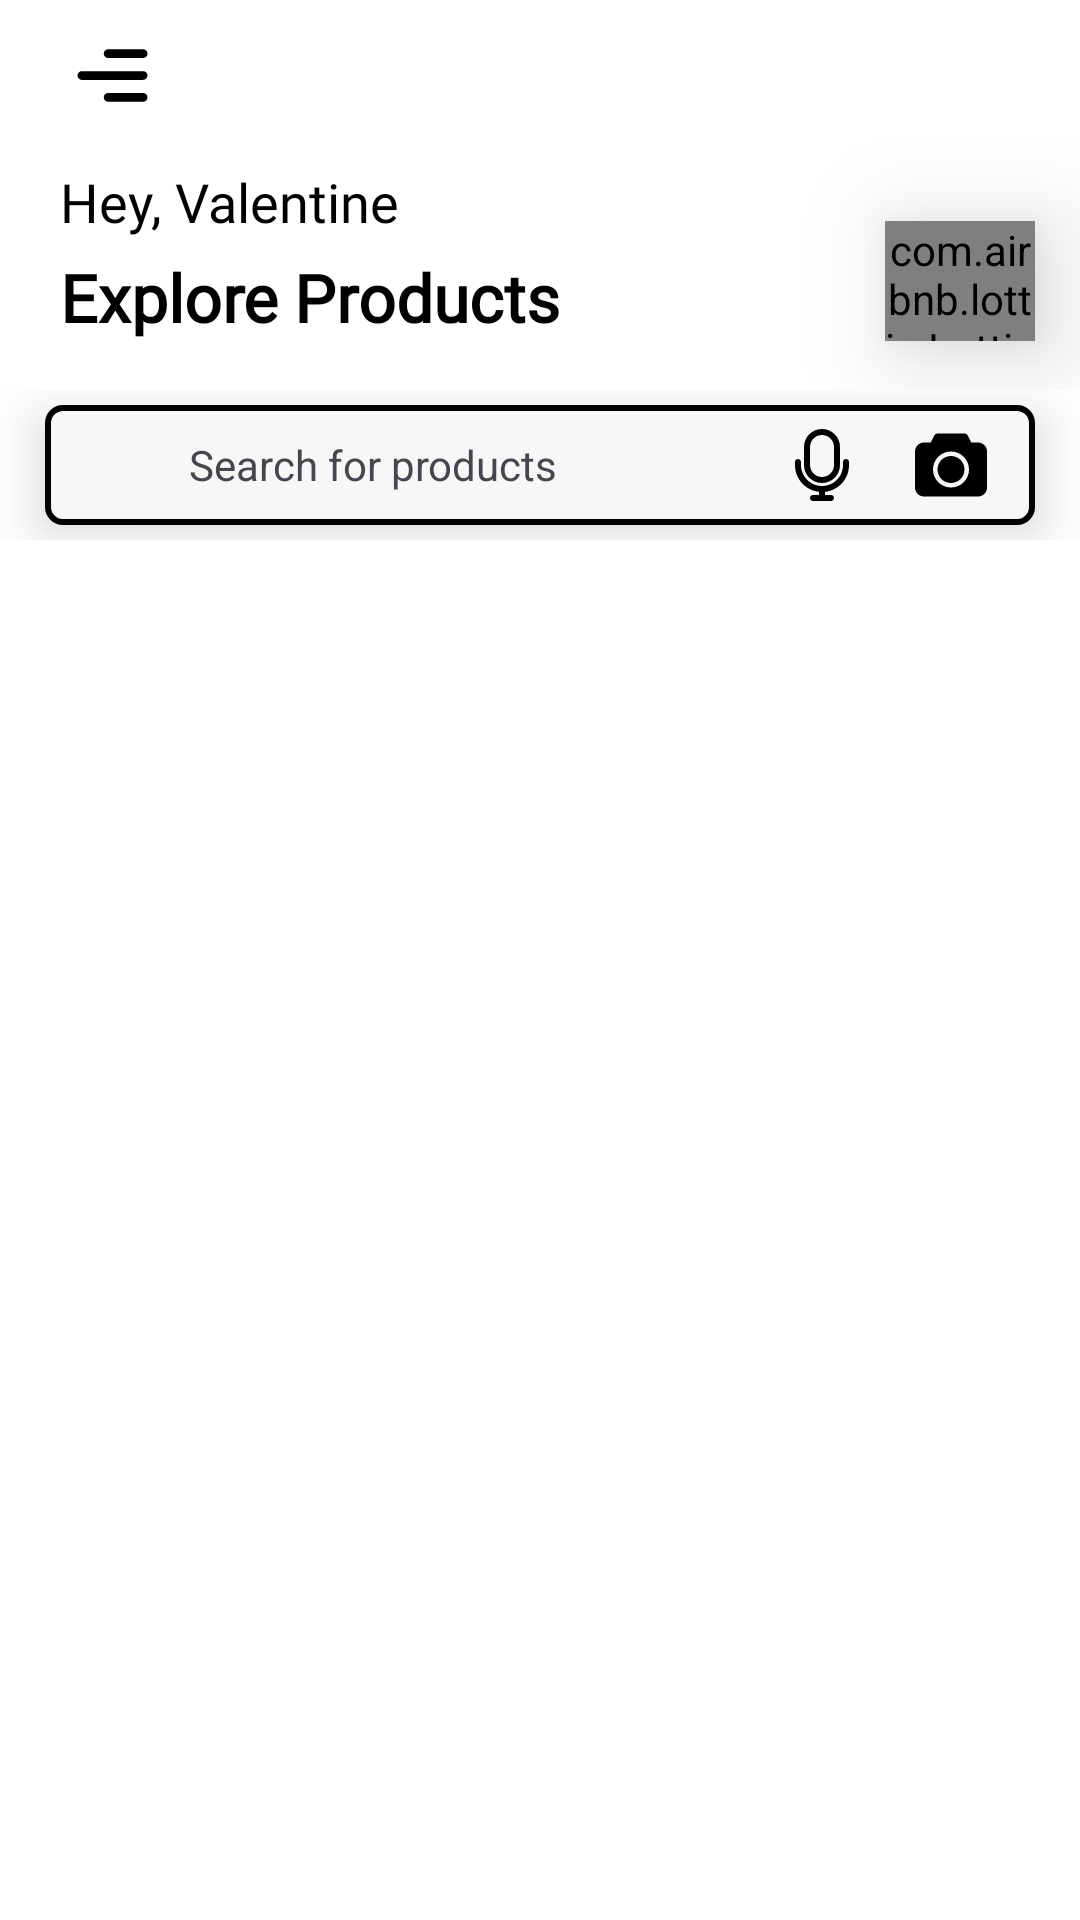

Icons on this 1080*1920 Android screen, each with the point to tap as (x=x, y=y):
camerarecent: (x=951, y=465)
menu: (x=112, y=75)
micrecent: (x=822, y=465)
